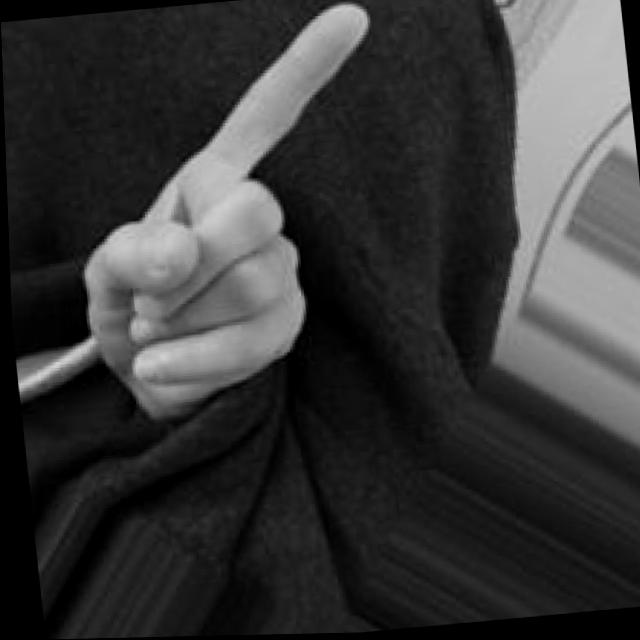I: (54, 0, 415, 428)
